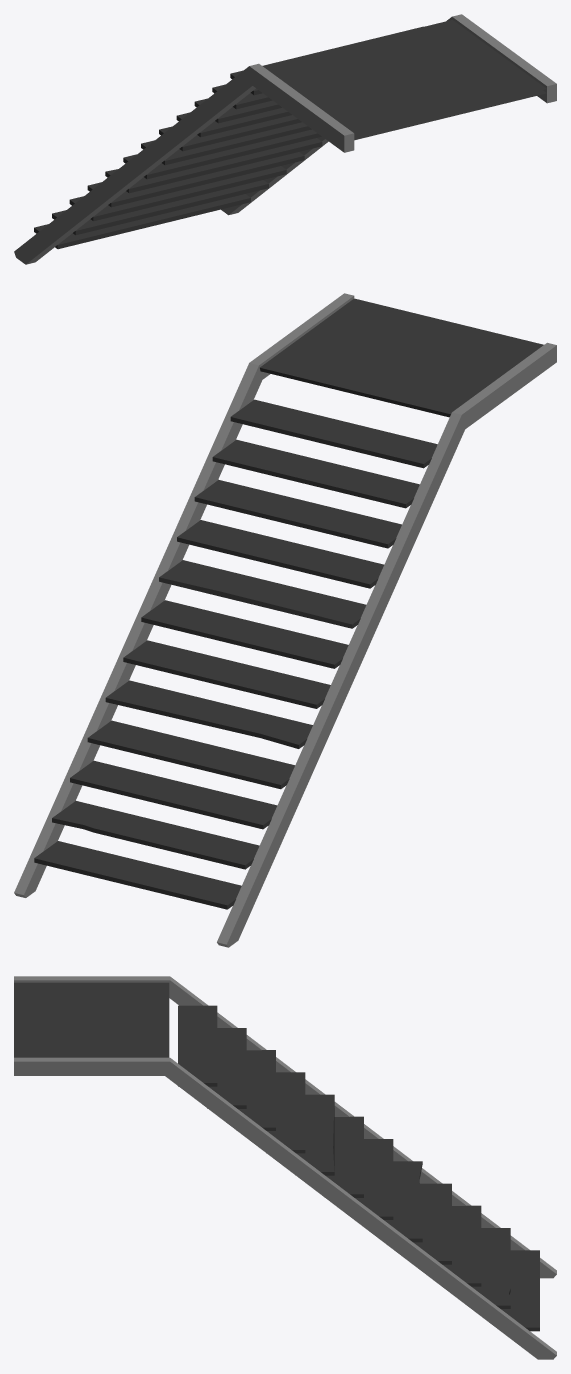
File: model_stairs_02.fbx
3 views of the same model, one above another, from view 1: azimuth 30°, elevation 25°; view 2: azimuth 150°, elevation 25°; view 3: azimuth 270°, elevation 25° (orthographic). The views are drawn at different scales.
Parts seen in each view (by area): view 1: model_stairs_02; view 2: model_stairs_02; view 3: model_stairs_02.
Boxes of the visible parts, x1,y1,x2,y2 form: model_stairs_02: (14,14,556,264); model_stairs_02: (14,293,556,947); model_stairs_02: (14,976,556,1359).
Size of the model in its own units: 239 by 389 by 643.
Materials: 1 (1 with a texture image).
